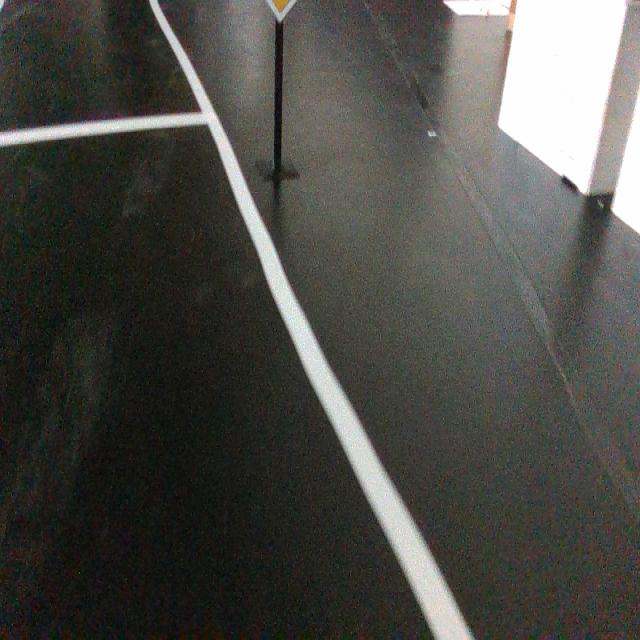priority-sign: (265, 0, 298, 25)
